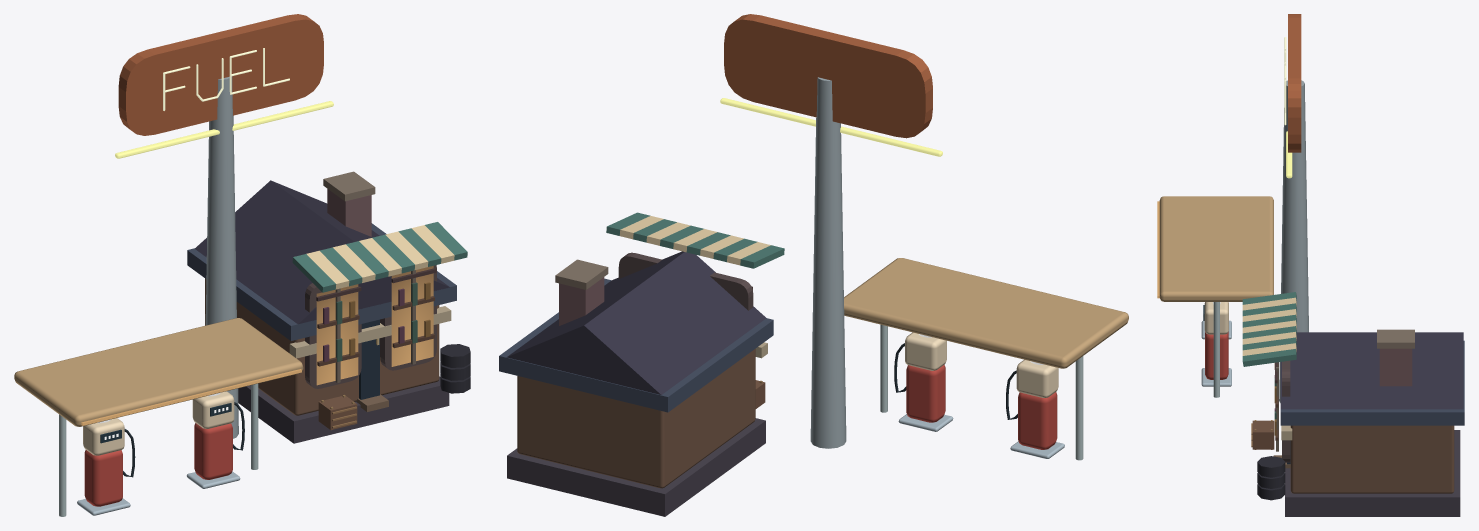
File: truckstop-map.glb
3 views of the same model, side by side, from view 1: azimuth 30°, elevation 25°; view 2: azimuth 150°, elevation 25°; view 3: azimuth 270°, elevation 25° (orthographic). The views are drawn at different scales.
Visible parts, largest first — view 1: place-static, pumps, large-place-glows; view 2: place-static, pumps; view 3: place-static, pumps.
Boxes of the visible parts, box(x1,y1,x2,y2) form: place-static: box(115, 14, 470, 443); pumps: box(14, 318, 303, 516); large-place-glows: box(81, 266, 433, 425); place-static: box(499, 14, 942, 516); pumps: box(844, 258, 1128, 460); place-static: box(1242, 14, 1464, 516); pumps: box(1159, 196, 1273, 397).
Size of the model in its own units: 5.98 by 5.28 by 3.94.
